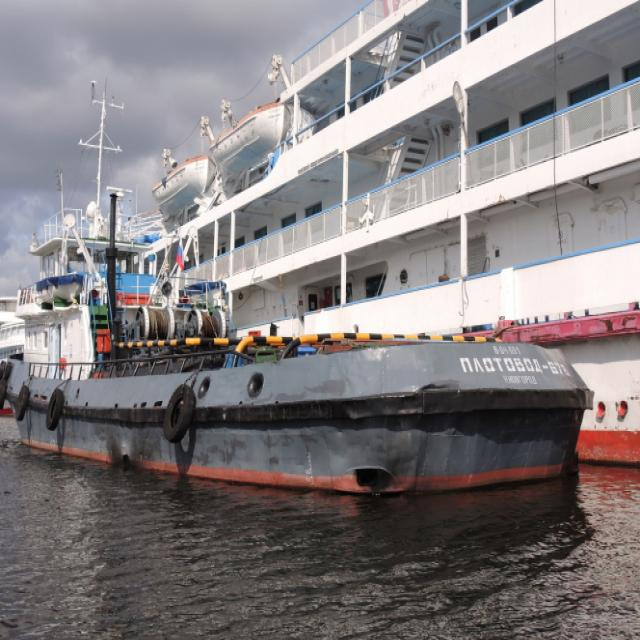tugboat: (1, 187, 600, 515)
